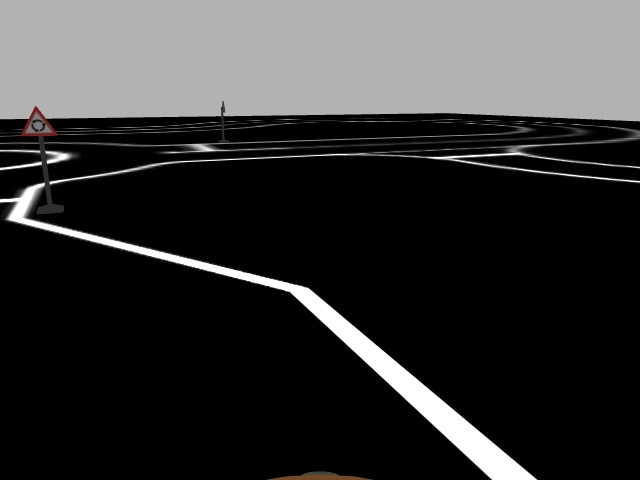roundabout: (21, 105, 58, 136)
